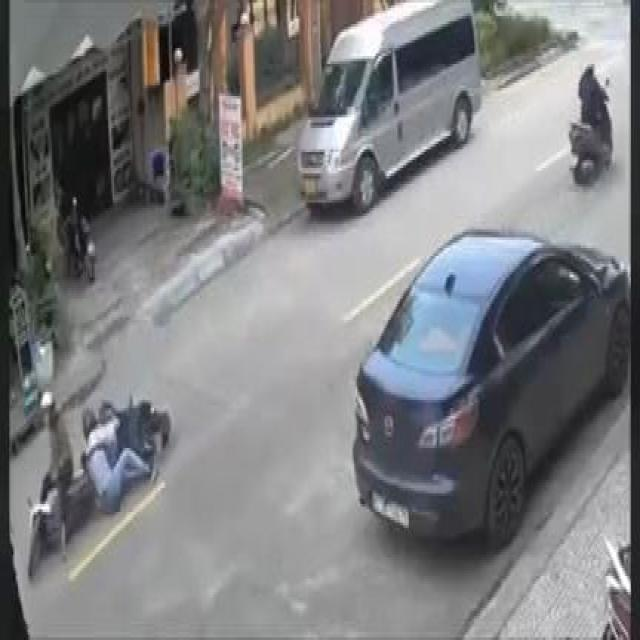accident: (20, 371, 174, 592)
